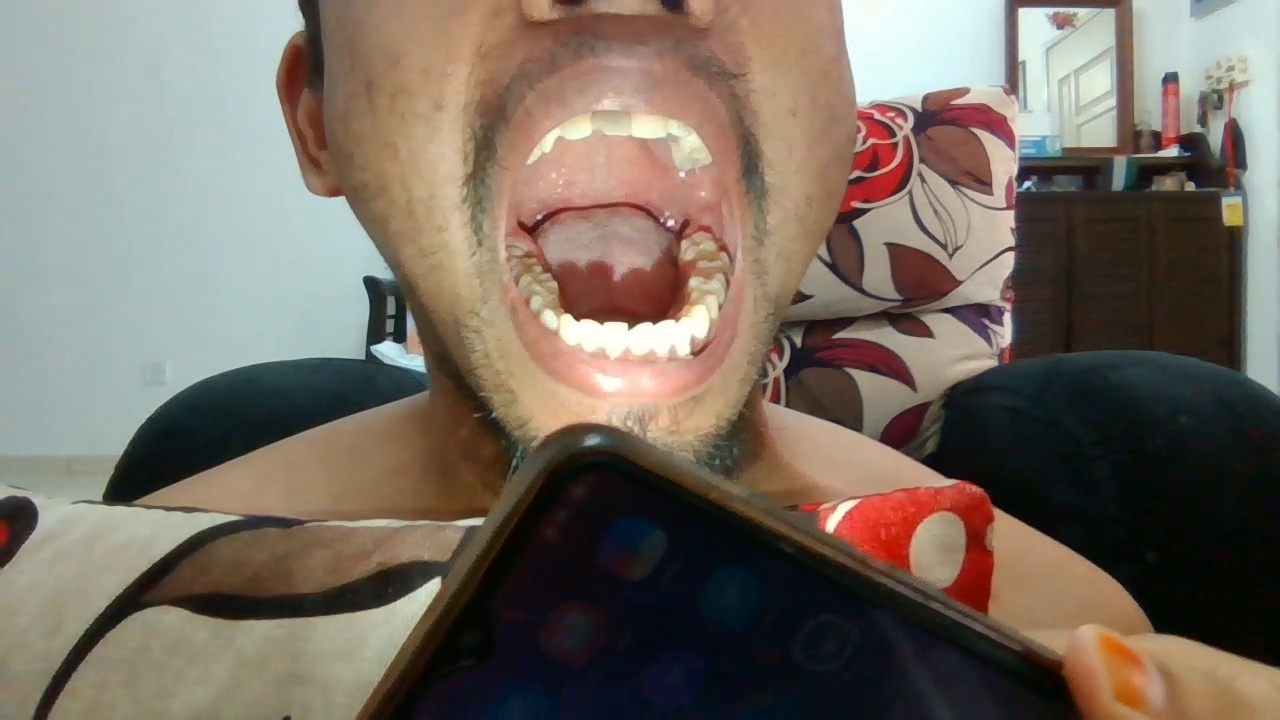1st Molar: (687, 269, 728, 295), (520, 271, 559, 295)
1st Premolar: (682, 303, 709, 338), (541, 308, 559, 331)
2nd Molar: (693, 250, 731, 272), (508, 256, 543, 277)
2nd Premolar: (689, 292, 719, 319), (528, 294, 555, 311)
3rd Molar: (677, 230, 714, 257), (504, 242, 533, 259)
Canine: (677, 316, 695, 357), (541, 127, 561, 156), (559, 313, 577, 344)
Central Incisor: (591, 109, 633, 136), (603, 320, 628, 361), (629, 319, 654, 358), (633, 110, 667, 137)
Lateral Incisor: (577, 316, 603, 356), (654, 315, 676, 361), (559, 113, 591, 142), (669, 116, 692, 139)
